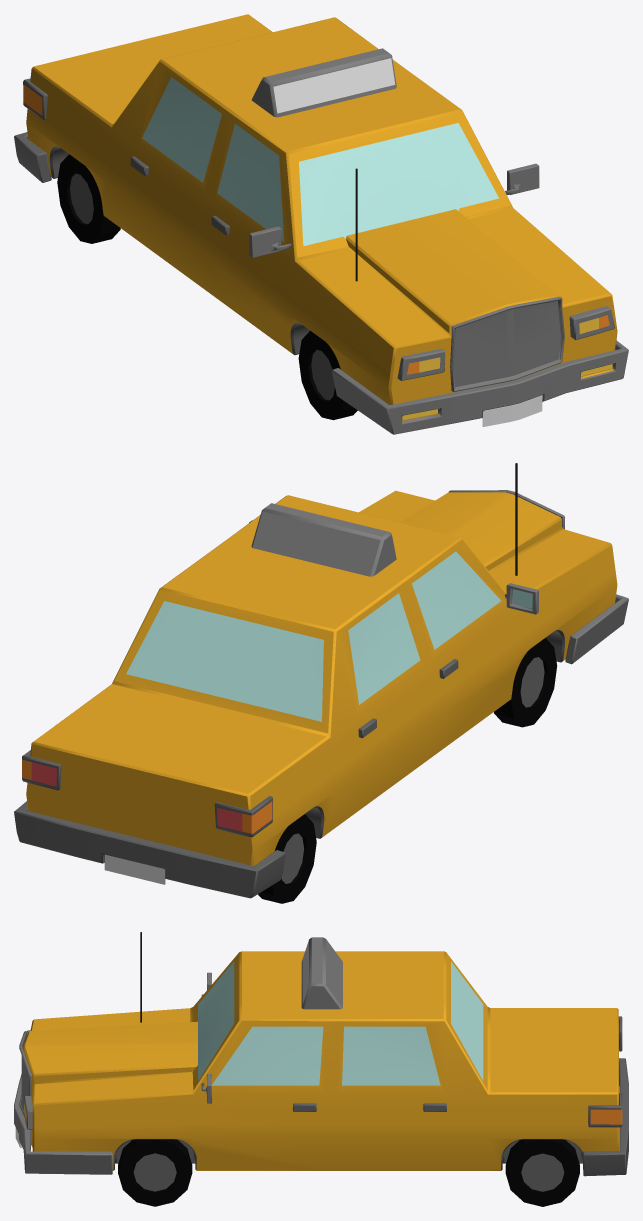
Rendered from BART 1.fbx.
3 views of the same model, one above another, from view 1: azimuth 30°, elevation 25°; view 2: azimuth 150°, elevation 25°; view 3: azimuth 270°, elevation 25° (orthographic). The views are drawn at different scales.
Parts seen in each view (by area): view 1: Bartholomew .003; view 2: Bartholomew .003; view 3: Bartholomew .003.
Part boxes in pixels (<box>): Bartholomew .003: <box>14,14,628,434</box>; Bartholomew .003: <box>14,463,628,903</box>; Bartholomew .003: <box>14,932,628,1206</box>.
Bounding box in the file's own units: 277 × 233 × 639.
